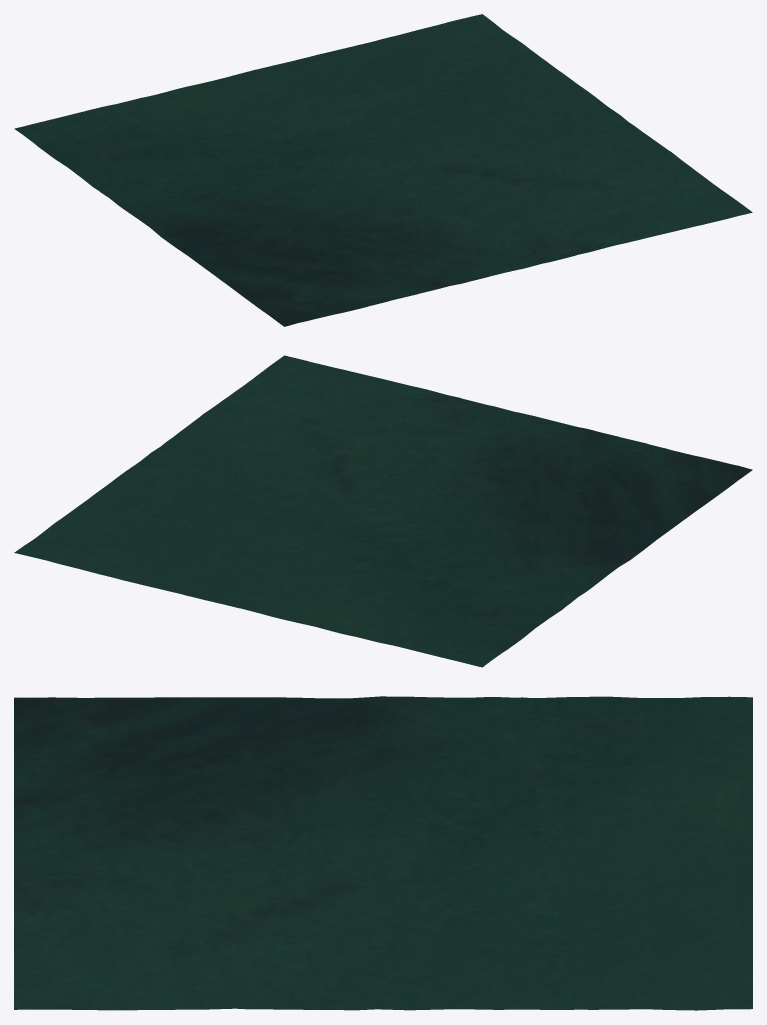
The picture shows the model from 3 angles, top to bottom: view 1: azimuth 30°, elevation 25°; view 2: azimuth 150°, elevation 25°; view 3: azimuth 270°, elevation 25°; orthographic projection. The views are drawn at different scales.
Size of the model in its own units: 209 by 0.83 by 209.
2 materials, 2 textured.
